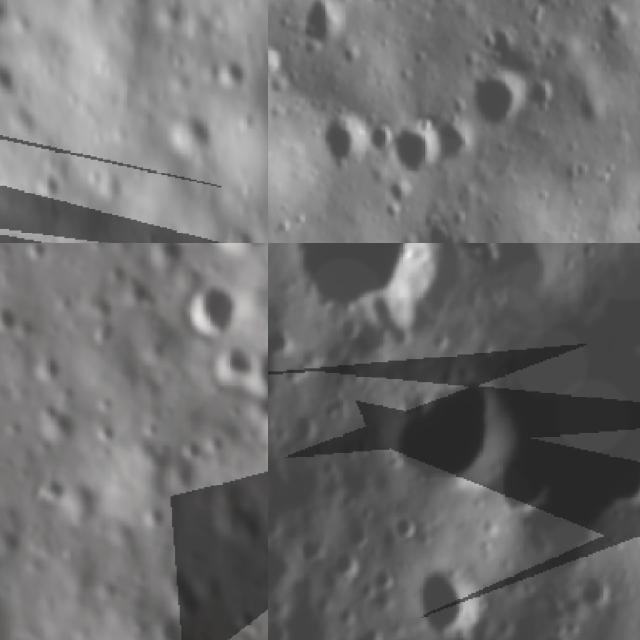crater: (380, 365, 509, 504), (283, 243, 428, 336), (409, 557, 486, 632), (390, 121, 452, 194), (464, 64, 533, 126), (310, 106, 372, 174), (181, 278, 240, 336), (436, 115, 486, 172), (50, 476, 103, 526), (165, 562, 208, 616), (214, 340, 255, 390), (167, 116, 211, 162), (574, 568, 610, 608), (28, 344, 65, 382), (32, 468, 69, 505), (148, 608, 188, 640), (386, 508, 421, 544), (246, 346, 268, 397), (346, 0, 415, 16), (209, 243, 268, 258), (299, 528, 325, 562), (149, 243, 183, 268), (332, 549, 361, 578), (210, 62, 240, 90), (268, 40, 286, 86), (0, 58, 22, 95), (138, 502, 168, 529), (233, 605, 262, 632), (255, 396, 268, 453), (345, 520, 371, 546), (179, 433, 204, 460), (370, 562, 392, 592), (204, 428, 228, 455), (0, 300, 19, 332), (94, 421, 116, 447), (18, 243, 49, 261)
